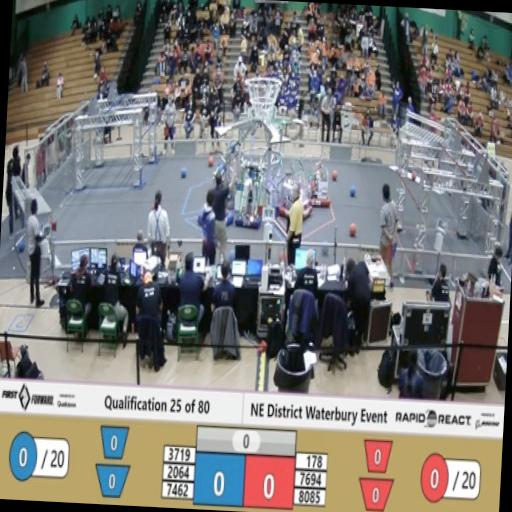robot: (198, 159, 238, 242), (233, 156, 267, 230), (276, 166, 316, 226), (208, 134, 240, 205), (302, 158, 334, 210)
